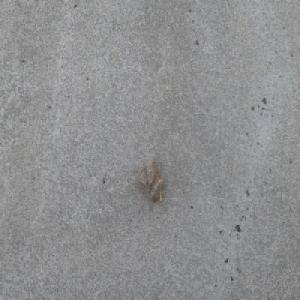Rock: (135, 152, 163, 203)
